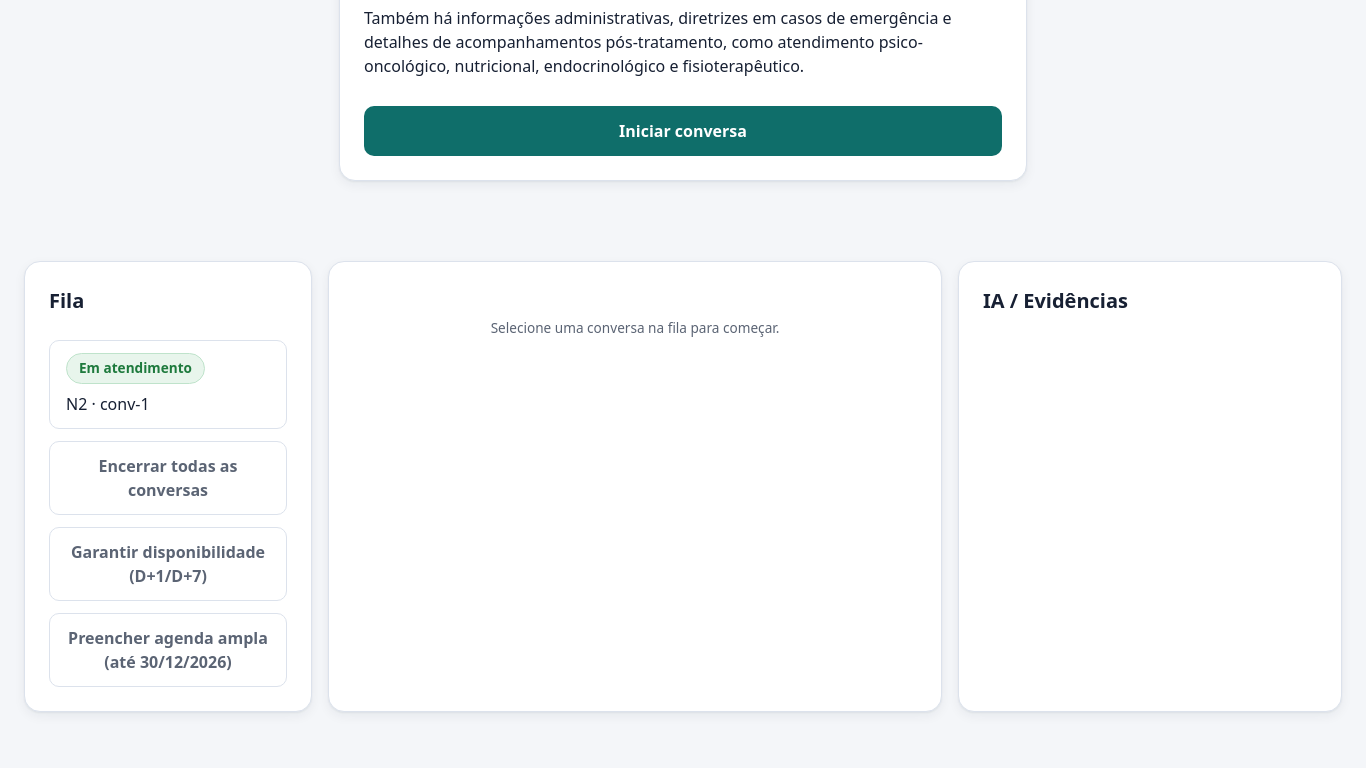
Scenario: V1 routes › defaults message selection to the trailing customer run and lets the operator clear it (V2-4)
(page scrolled)
Step 1. Click the button "Em atendimento N2 · conv-1" → [168, 384], box x1=49 y1=340 x2=287 y2=429
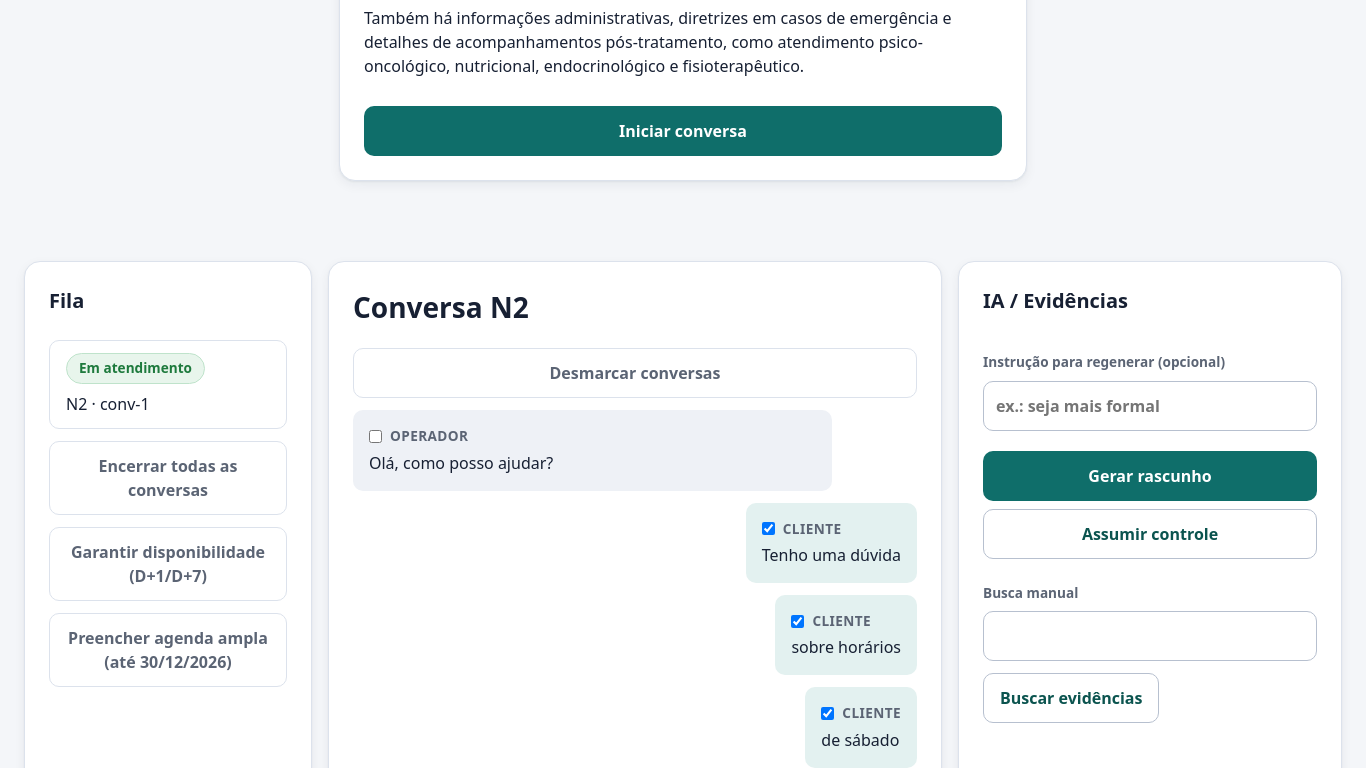
Expected: the number of checkboxes is 4, x1=369 y1=430 x2=382 y2=443; x1=762 y1=522 x2=775 y2=535; x1=791 y1=615 x2=804 y2=628; x1=821 y1=707 x2=834 y2=720
Step 2. Click the button "Desmarcar conversas" → [635, 373], box x1=353 y1=348 x2=917 y2=398
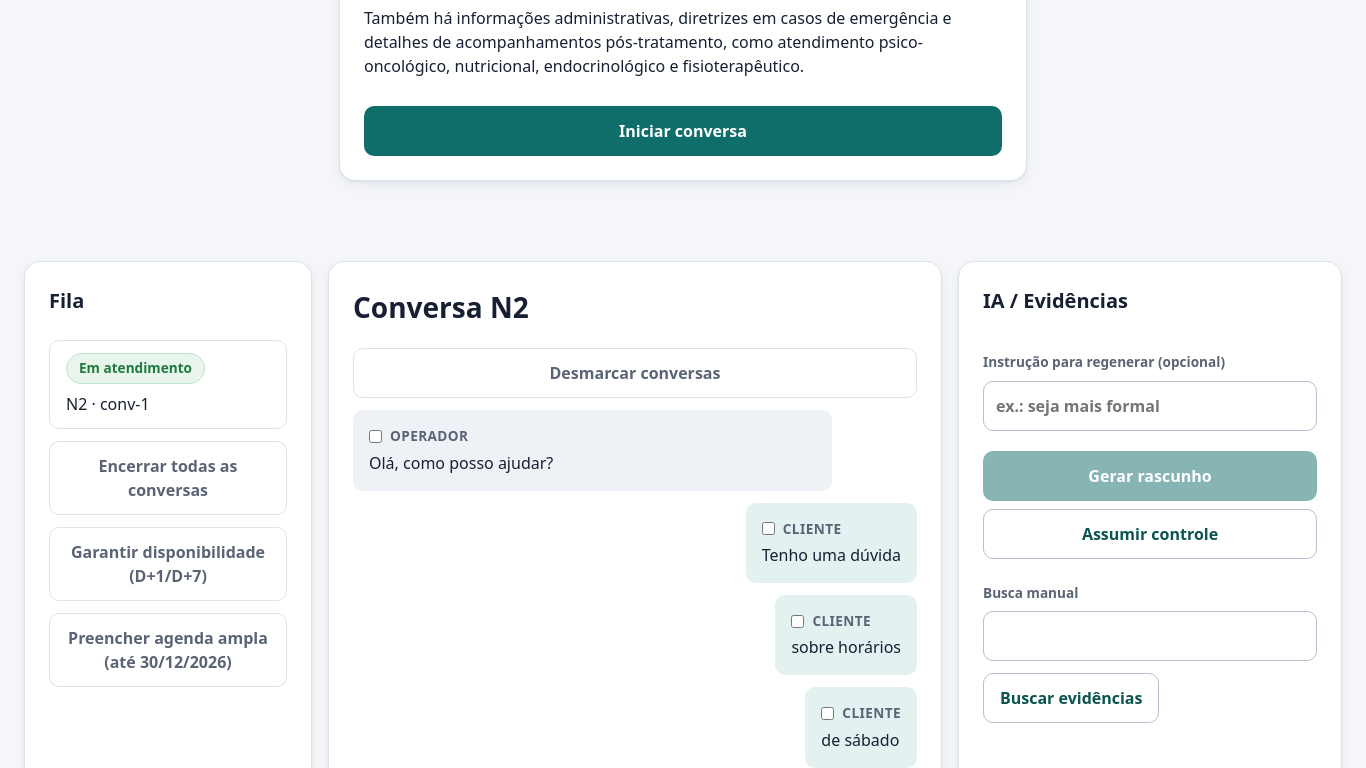
Expected: the button "Gerar rascunho" is disabled, x1=983 y1=451 x2=1317 y2=501
Step 3. Click the 1st checkbox labelled "Cliente" → [768, 529], box x1=762 y1=522 x2=775 y2=535
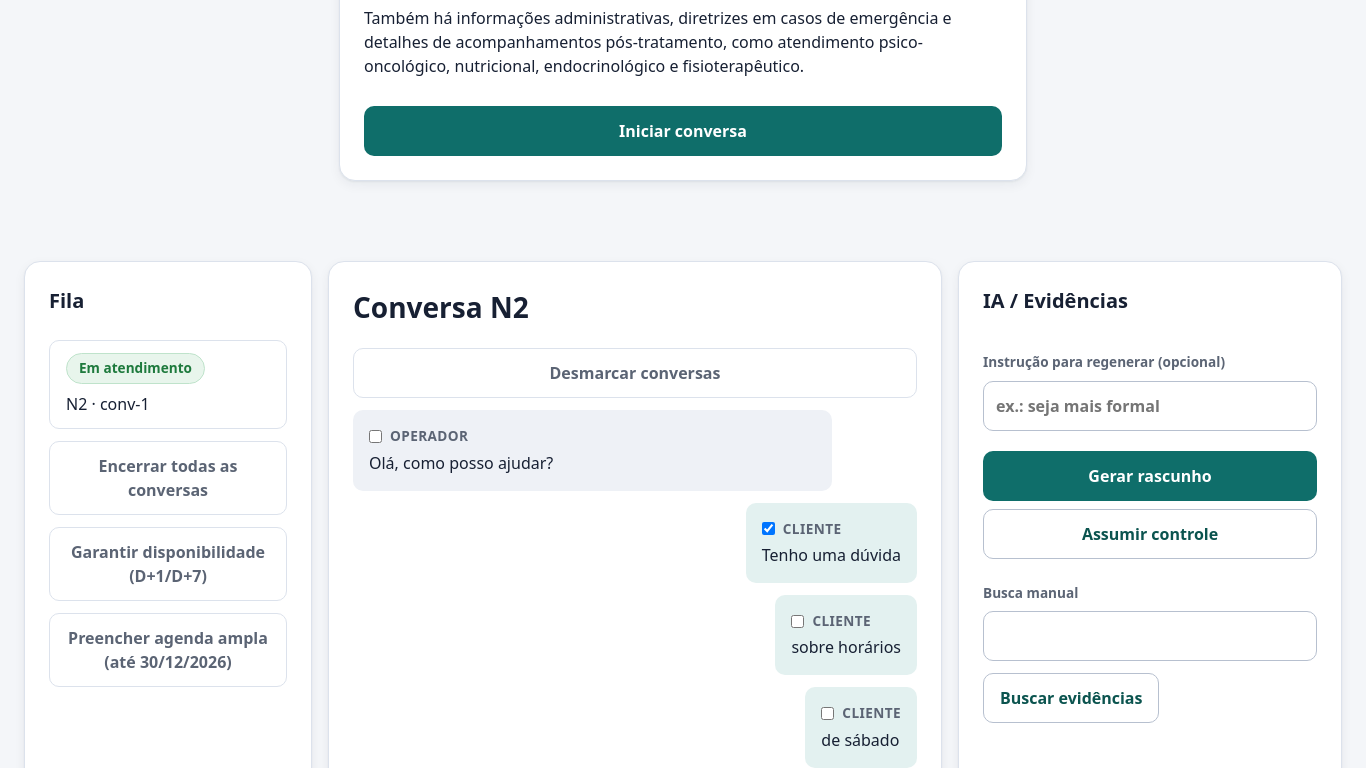
Expected: the button "Gerar rascunho" is enabled, x1=983 y1=451 x2=1317 y2=501
